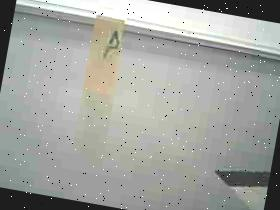Bottle A: (78, 6, 132, 102)
